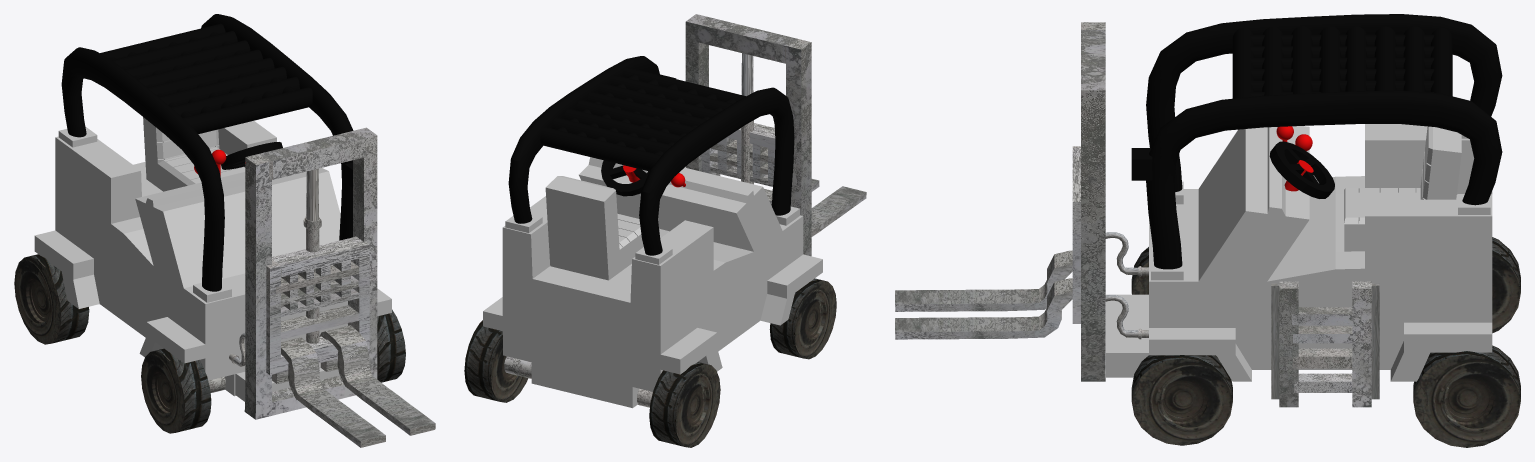
File: Truck.fbx
3 views of the same model, side by side, from view 1: azimuth 30°, elevation 25°; view 2: azimuth 150°, elevation 25°; view 3: azimuth 270°, elevation 25° (orthographic). The views are drawn at different scales.
Parts seen in each view (by area): view 1: polySurface99, polySurface107, pCube6, polySurface88, polySurface113, polySurface111, pCube9, pCube8, polySurface90, polySurface89, polySurface114, polySurface74 (+12 smaller); view 2: polySurface99, polySurface107, polySurface88, polySurface74, polySurface111, polySurface90, polySurface113, polySurface83, pCube6, polySurface96, pCube8, polySurface100 (+11 smaller); view 3: polySurface99, polySurface90, polySurface88, pCube13, polySurface107, polySurface114, polySurface83, pCube9, pCube8, polySurface74, polySurface105, polySurface111 (+19 smaller).
Boxes of the visible parts, x1,y1,x2,y2 form: polySurface99: (34,120,391,401); polySurface107: (244,127,377,419); pCube6: (266,236,369,374); polySurface88: (61,47,224,291); polySurface113: (141,348,211,433); polySurface111: (14,254,89,344); pCube9: (319,325,435,435); pCube8: (272,337,385,447); polySurface90: (201,14,353,240); polySurface89: (183,87,312,133); polySurface114: (377,309,405,382); polySurface74: (143,117,219,187); polySurface99: (483,157,822,408); polySurface107: (685,14,811,256); polySurface88: (639,87,794,255); polySurface74: (545,176,620,280); polySurface111: (649,362,720,447); polySurface90: (508,56,659,223); polySurface113: (769,278,836,359); polySurface83: (464,320,528,402); pCube6: (701,123,775,205); polySurface96: (540,127,661,171); pCube8: (811,186,866,236); polySurface100: (551,117,671,153); polySurface99: (1106,124,1492,381); polySurface90: (1146,90,1502,269); polySurface88: (1146,14,1502,192); pCube13: (1279,281,1371,407); polySurface107: (1081,22,1105,381); polySurface114: (1131,355,1232,445); polySurface83: (1413,345,1520,447); pCube9: (895,278,1072,339); pCube8: (895,250,1072,311); polySurface74: (1420,126,1461,199); polySurface105: (1269,141,1334,198); polySurface111: (1492,237,1520,333).
Bounding box in the file's own units: 9 × 11.27 × 19.19.
